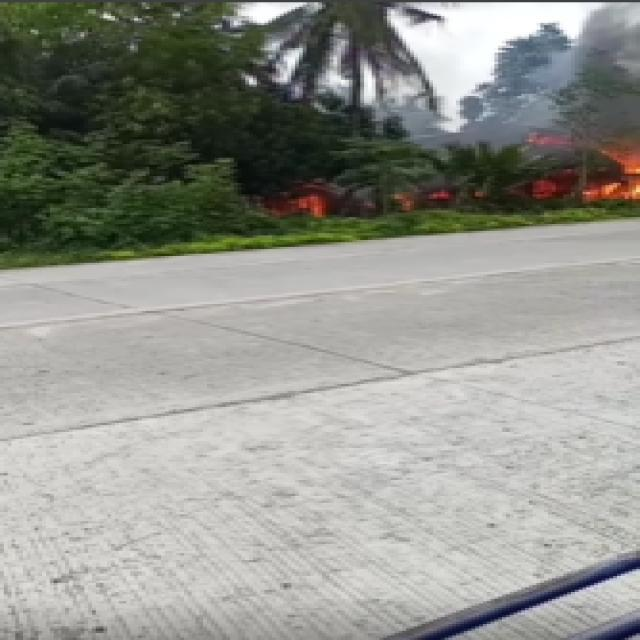Fire: (546, 140, 640, 204)
Smoke: (529, 20, 640, 179)
